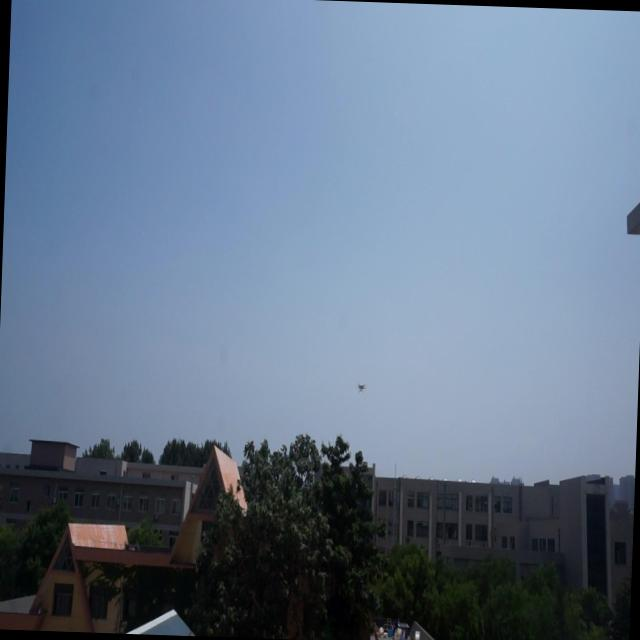drone: (356, 376, 368, 396)
